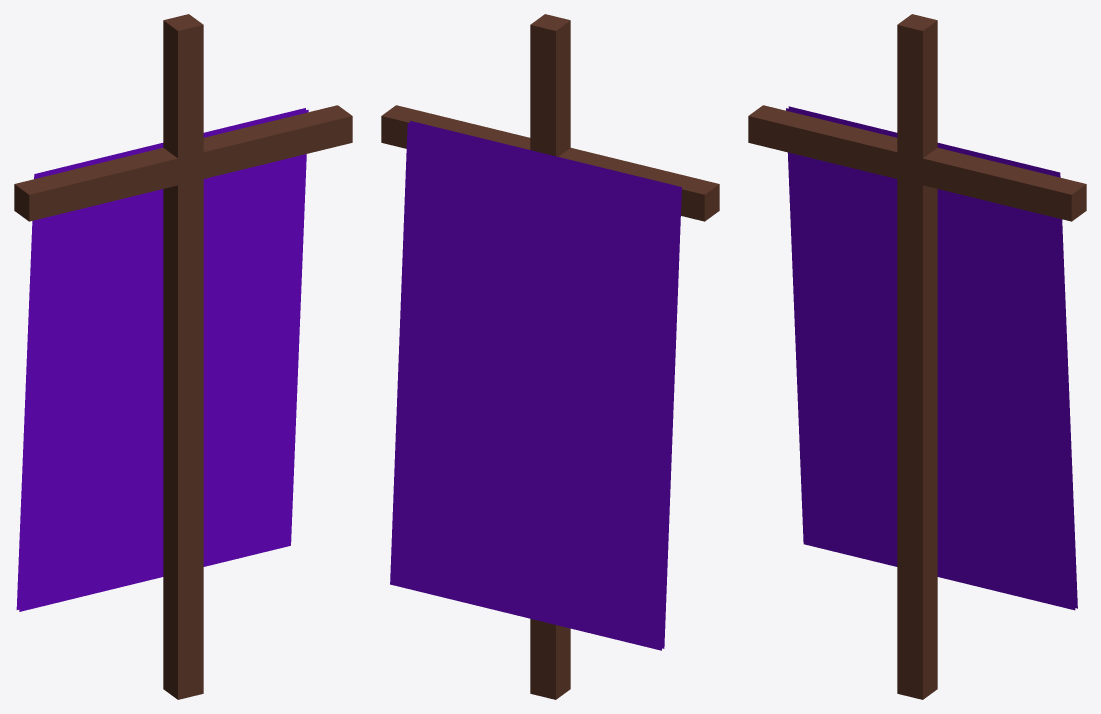
The model's file is EnemyFlag.fbx.
The picture shows the model from 3 angles, left to right: view 1: azimuth 30°, elevation 25°; view 2: azimuth 150°, elevation 25°; view 3: azimuth 330°, elevation 25°; orthographic projection.
Parts seen in each view (by area): view 1: Plane.003; view 2: Plane.003; view 3: Plane.003.
Part boxes in pixels (left/top/right/bottom): Plane.003: left=14, top=14, right=352, bottom=699; Plane.003: left=381, top=14, right=719, bottom=699; Plane.003: left=748, top=14, right=1086, bottom=699.
Bounding box in the file's own units: 93.97 × 186 × 17.66.
